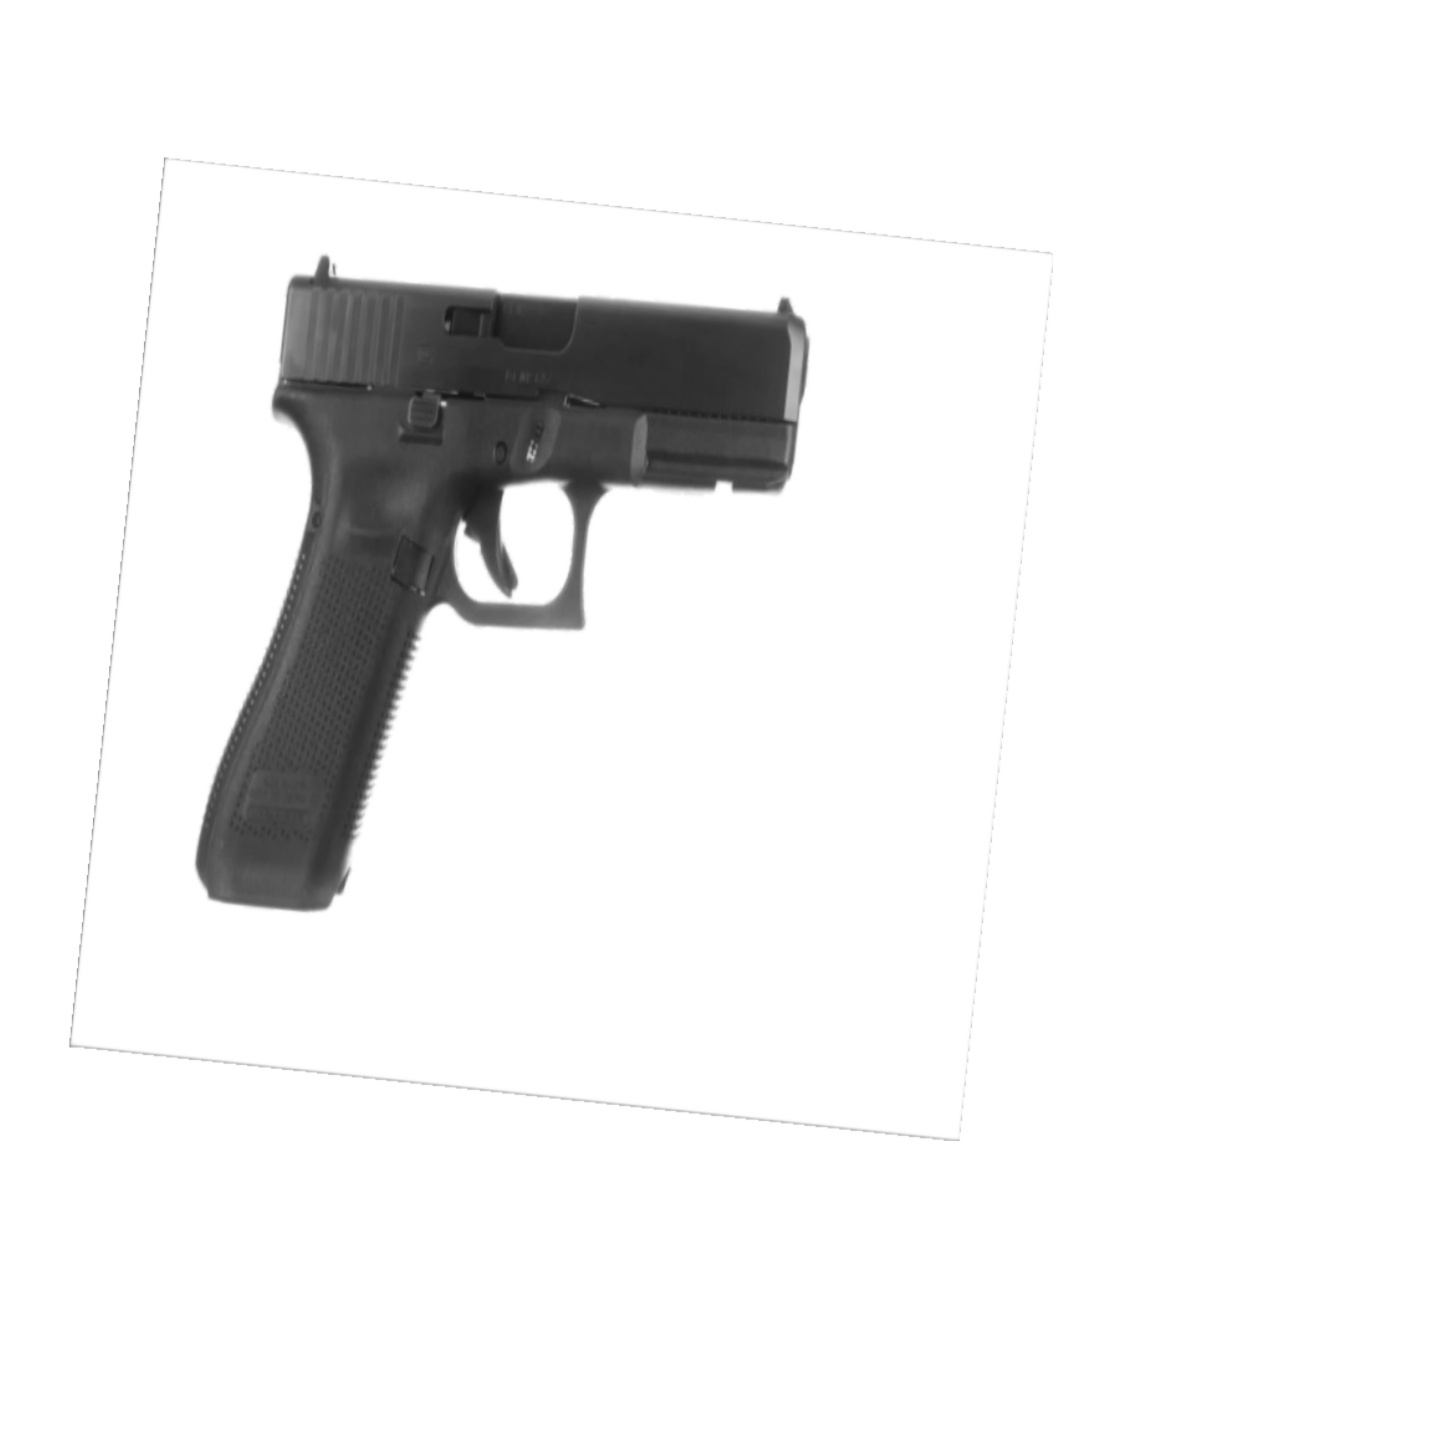gun: (194, 252, 811, 910)
